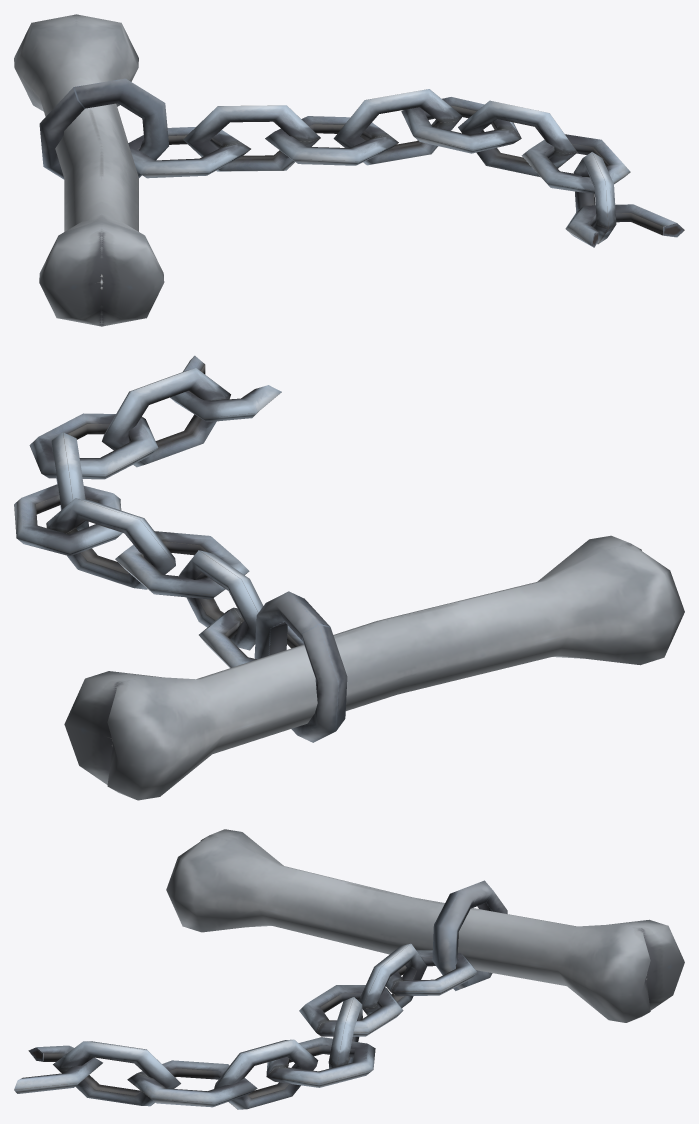
File: deco_chains_bone.fbx
The picture shows the model from 3 angles, top to bottom: view 1: azimuth 30°, elevation 25°; view 2: azimuth 150°, elevation 25°; view 3: azimuth 270°, elevation 25°; orthographic projection. The views are drawn at different scales.
Parts seen in each view (by area): view 1: Object081; view 2: Object081; view 3: Object081.
Part boxes in pixels (box(x1,y1,x2,y2)): Object081: box(14, 14, 684, 326); Object081: box(14, 355, 684, 800); Object081: box(14, 829, 684, 1109).
Bounding box in the file's own units: 39.02 × 7.57 × 43.35.
